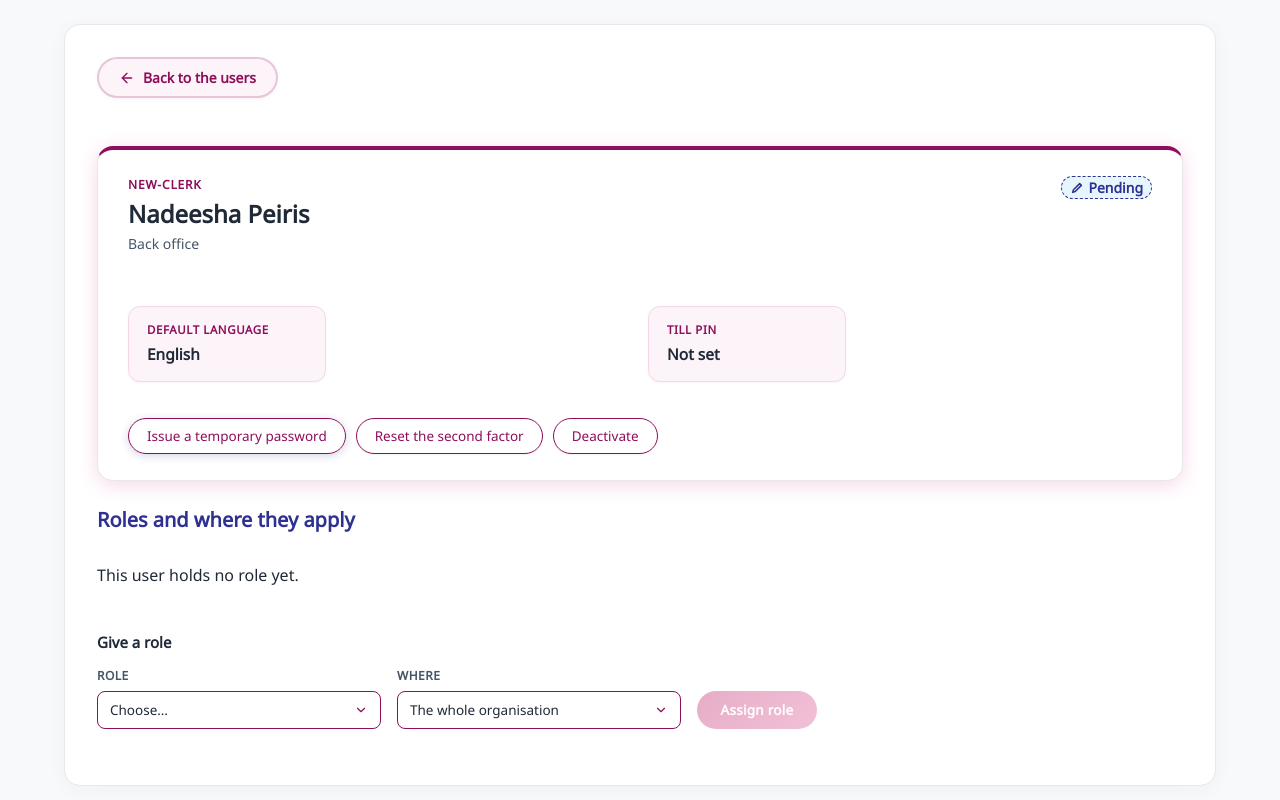
the user card › offers the entity's own roles, not the templates, and assigns one at a location
Select "Demo: accounts" in the dropdown labelled "Role": (239, 710) [97, 691, 381, 729]
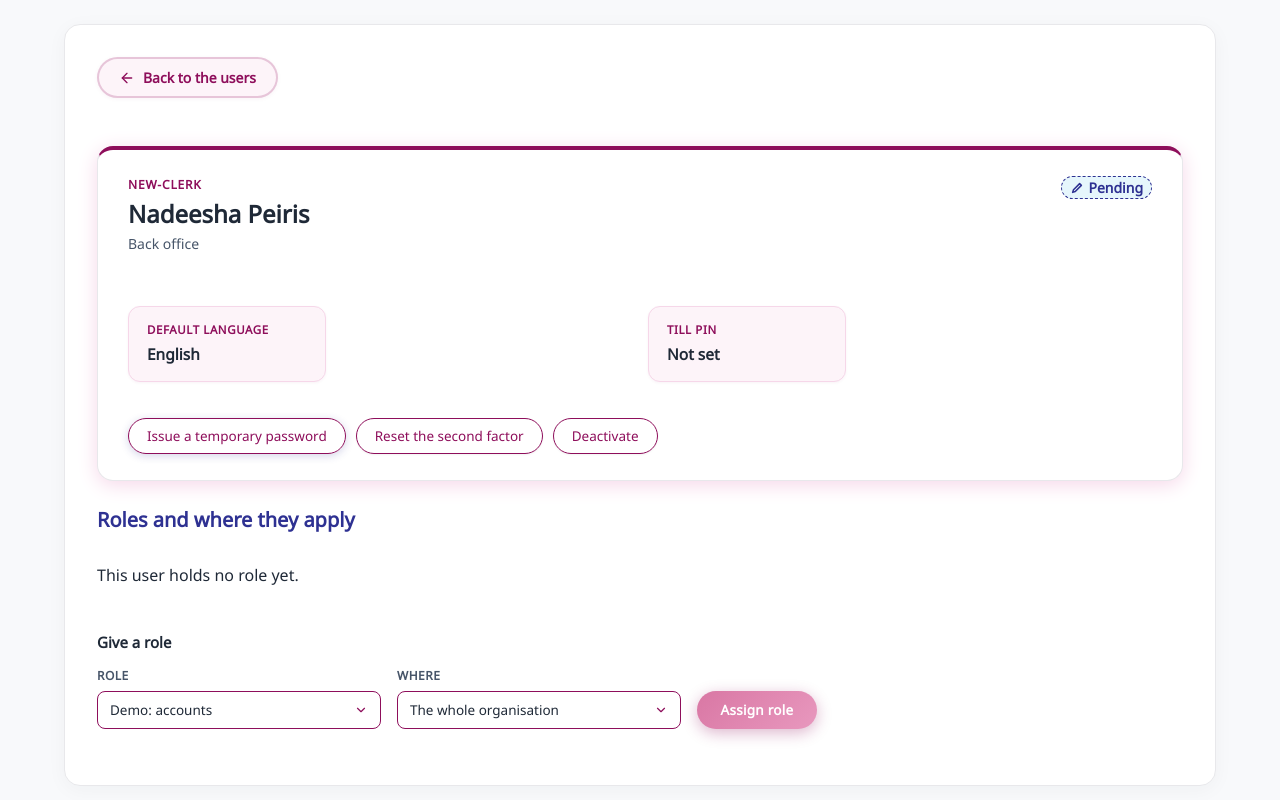
Select "W01 Federation warehouse" in the dropdown labelled "Where": (539, 710) [397, 691, 681, 729]
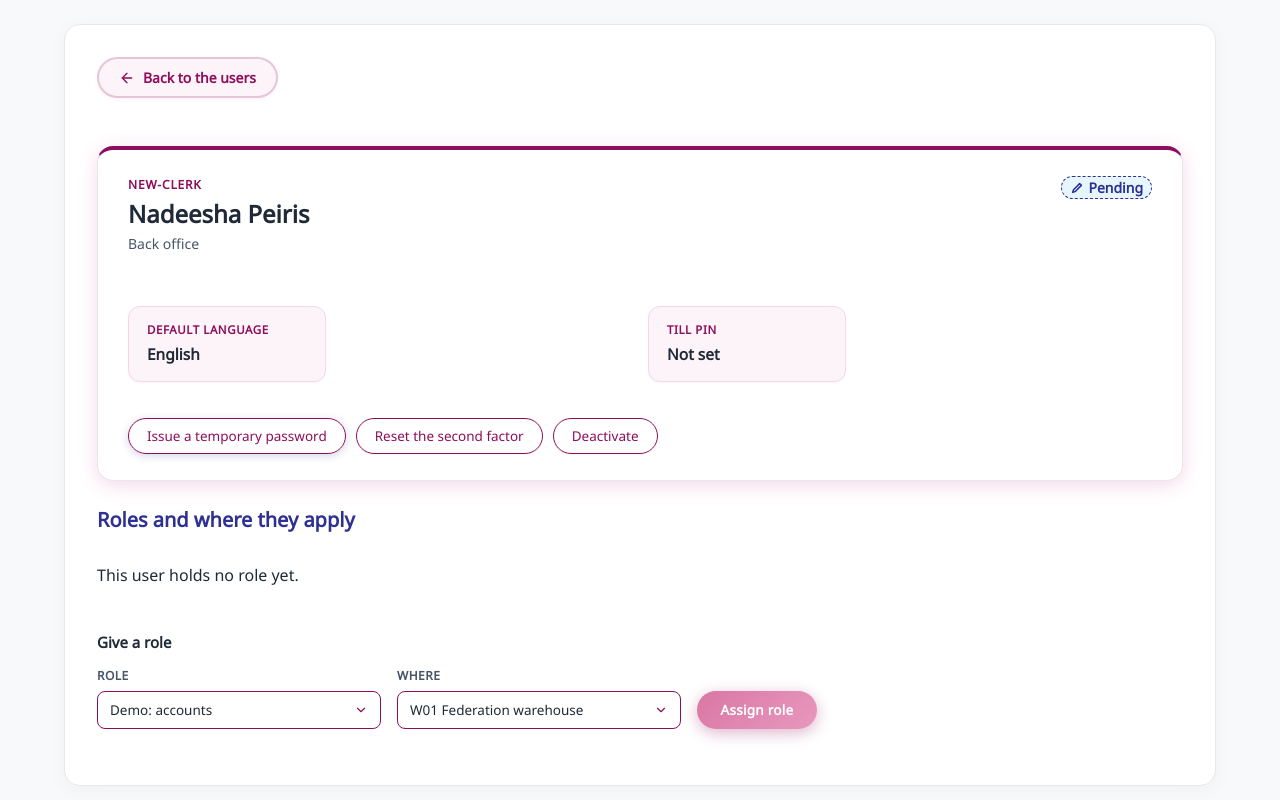
Click the button "Assign role": (757, 710) [697, 691, 817, 729]
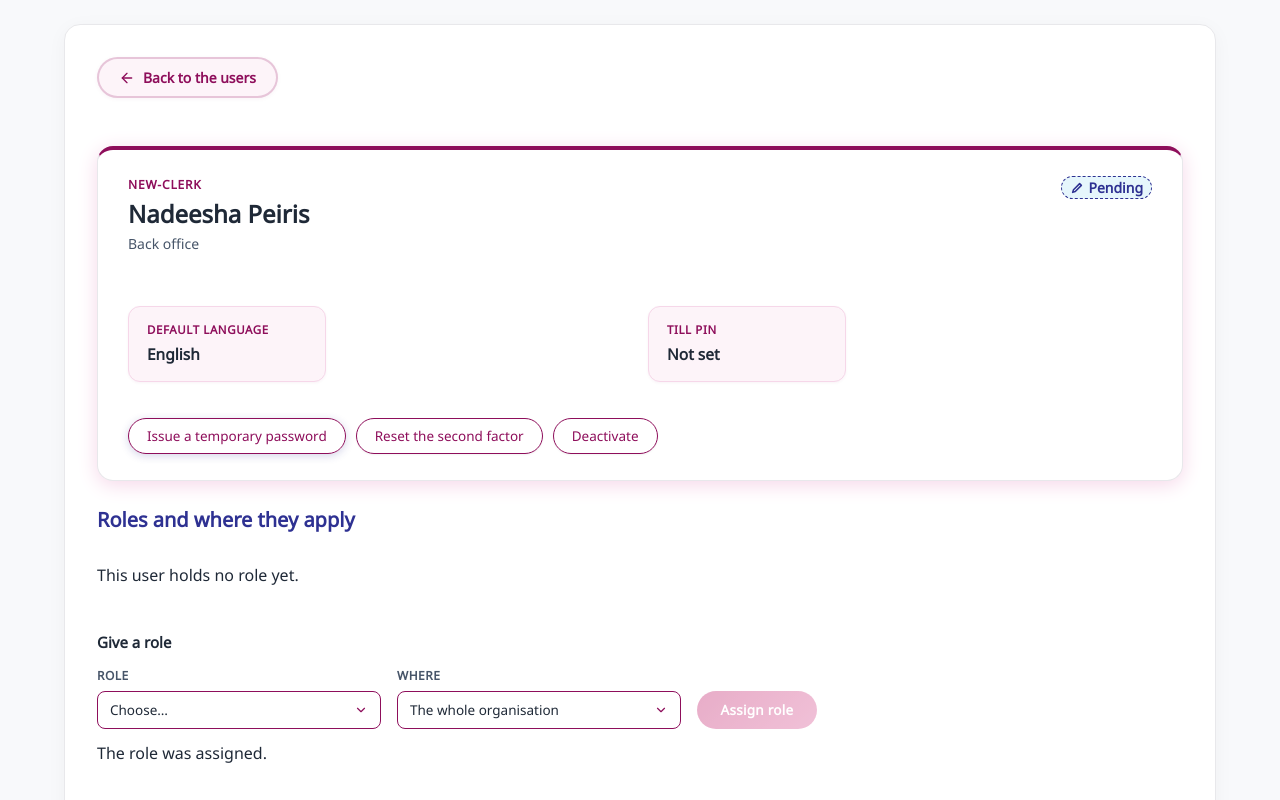
Expected: the text "The role was assigned." is shown, [97, 742, 267, 764]
